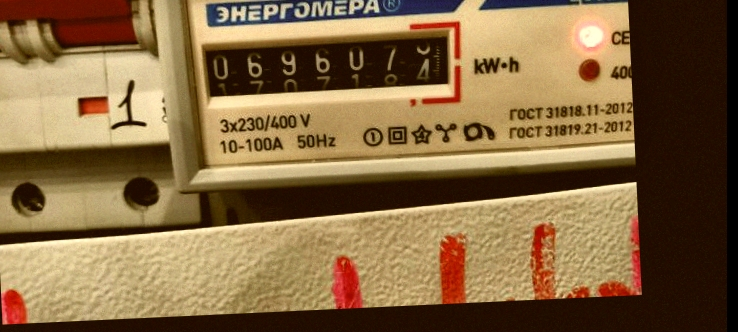0: (346, 42, 366, 73), (212, 52, 230, 81)
4: (414, 54, 432, 83)
6: (313, 44, 332, 74), (245, 49, 264, 78)
7: (380, 41, 401, 73)
9: (278, 48, 298, 77)
screen: (188, 17, 469, 114)
